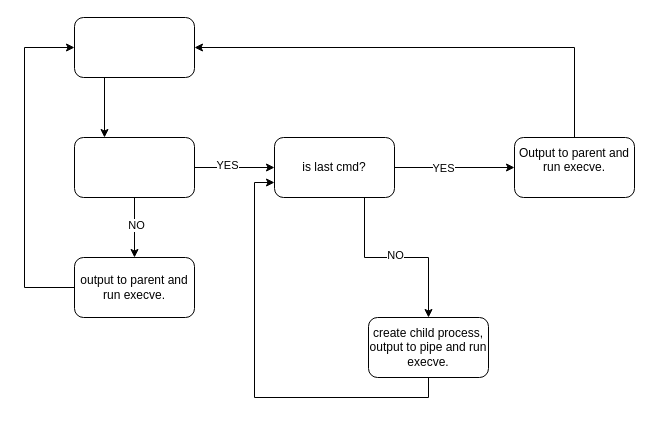
This 652x423 diagram has some shape labels left out. The box of each missing label's shape, as (x1, y1, x2, y2) in pixels:
Minishell/parent: (74, 16, 194, 78)
Multiple commands eh?: (74, 136, 194, 198)
